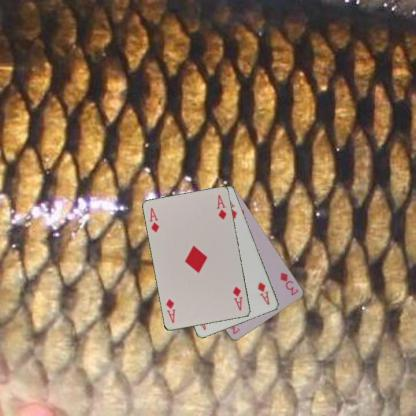3d: (278, 270, 300, 297)
Ad: (255, 280, 271, 306), (230, 284, 244, 312), (146, 206, 160, 233)
